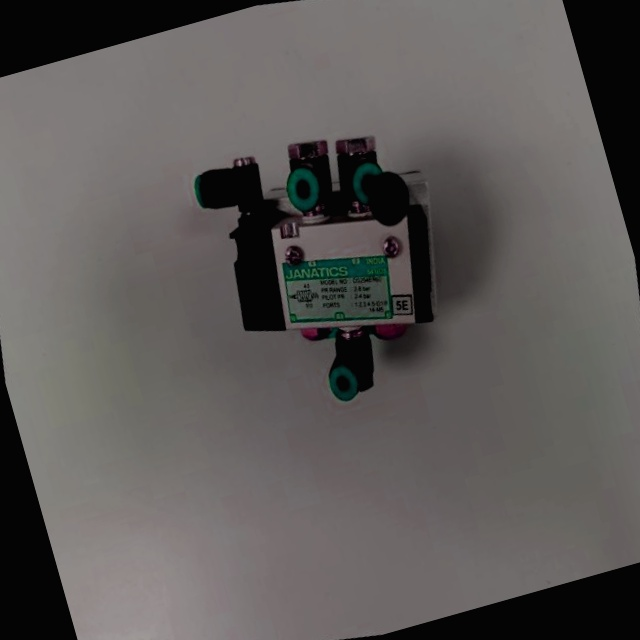5by2 DCV: (134, 67, 508, 466)
